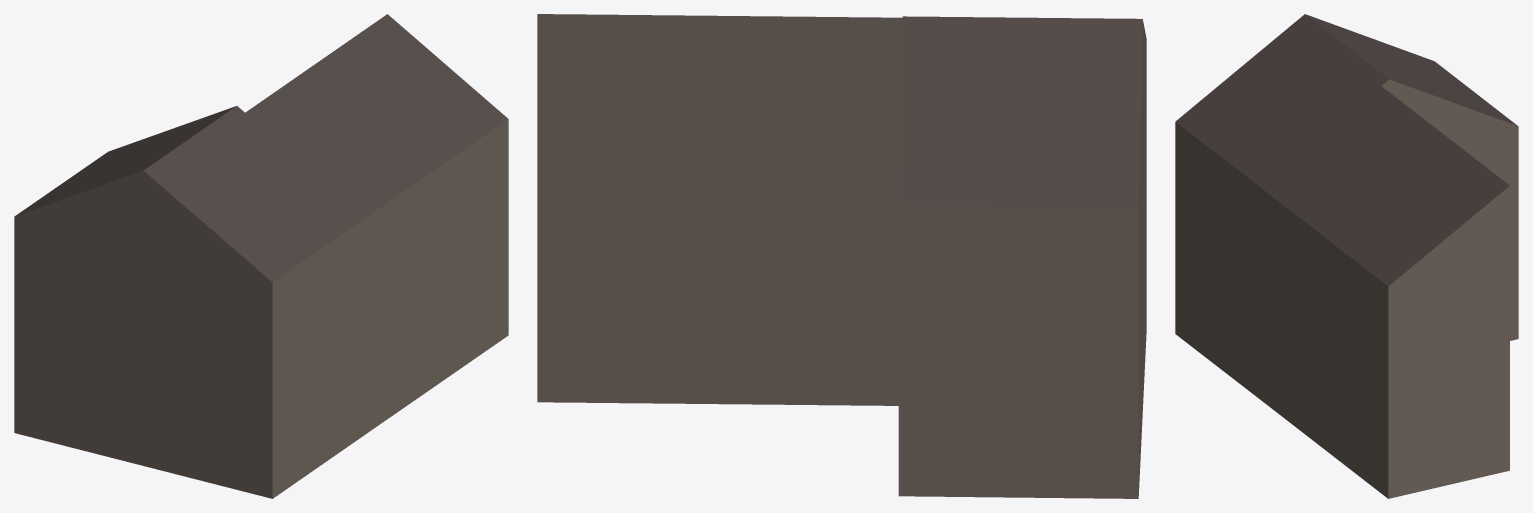
The picture shows the model from 3 angles, left to right: view 1: azimuth 30°, elevation 25°; view 2: azimuth 150°, elevation 25°; view 3: azimuth 270°, elevation 25°; orthographic projection. The views are drawn at different scales.
Parts seen in each view (by area): view 1: HP-w859088439; view 2: HP-w859088439; view 3: HP-w859088439.
Part boxes in pixels (x1=…): HP-w859088439: x1=14, y1=14, x2=508, y2=498; HP-w859088439: x1=537, y1=14, x2=1146, y2=498; HP-w859088439: x1=1175, y1=14, x2=1518, y2=498.
Bounding box in the file's own units: 13.65 × 8.19 × 8.79.
